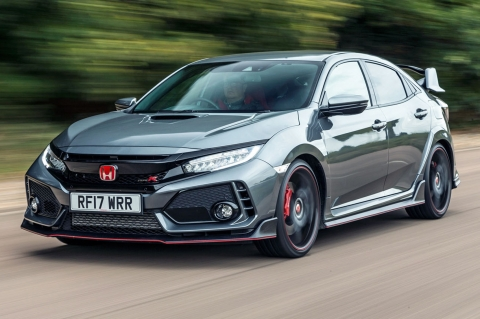araba: (22, 49, 461, 259)
